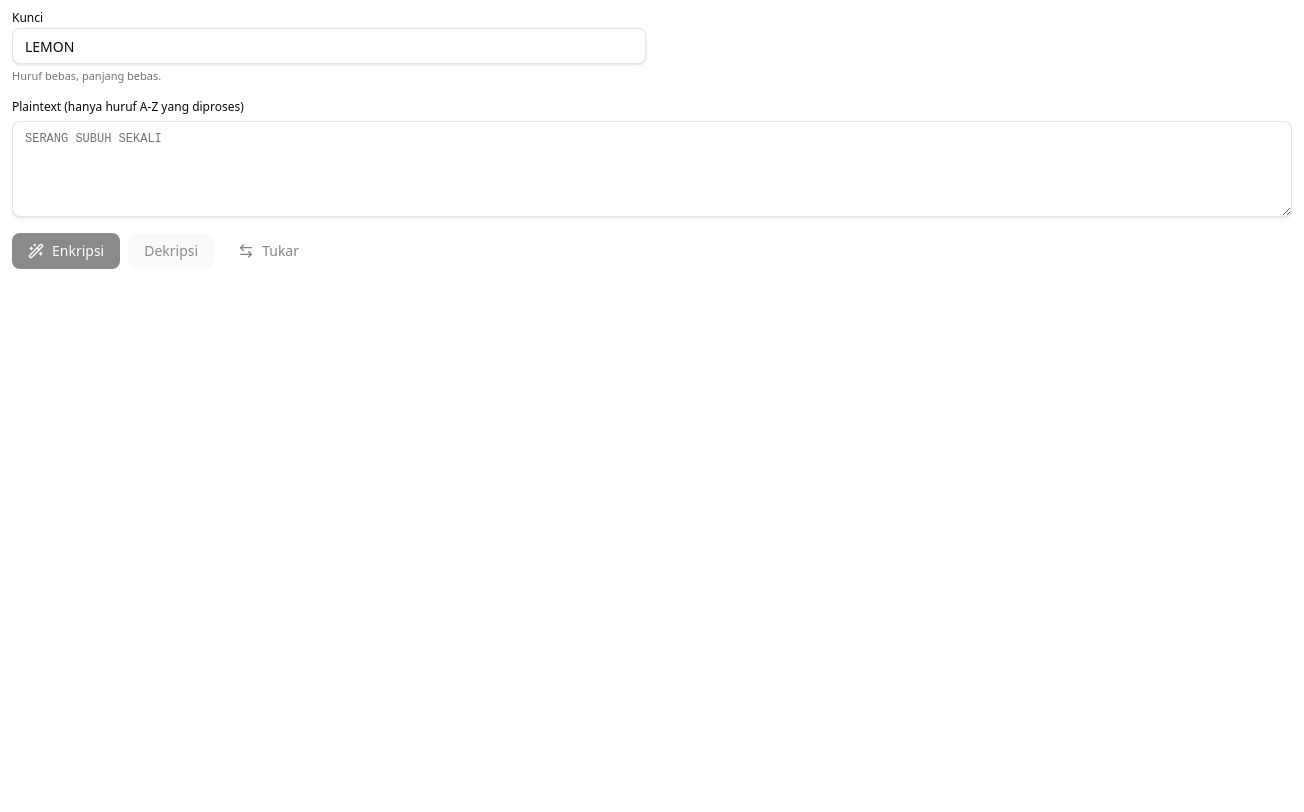
Test: TextPanel — enkripsi/dekripsi teks lewat GUI › menampilkan peringatan saat non-alfabet dibuang (Sp2)
Step 1. Type "SERANG SUBUH, SEKALI! 05:00" into the text box labelled "Plaintext (hanya huruf A-Z yang diproses)" → (652, 168), box 12,120 -> 1292,216
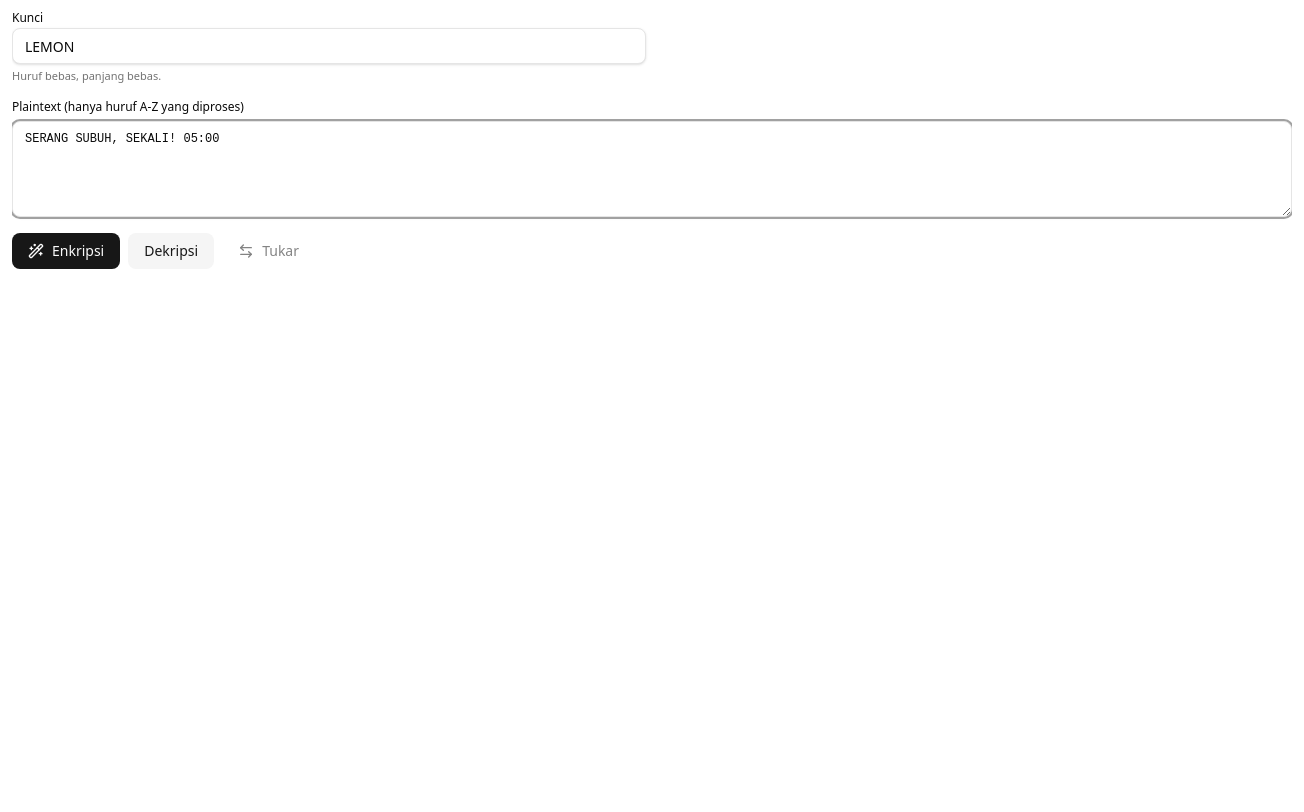
Step 2. Click the button "Enkripsi" → click(66, 250), box 12,232 -> 120,268
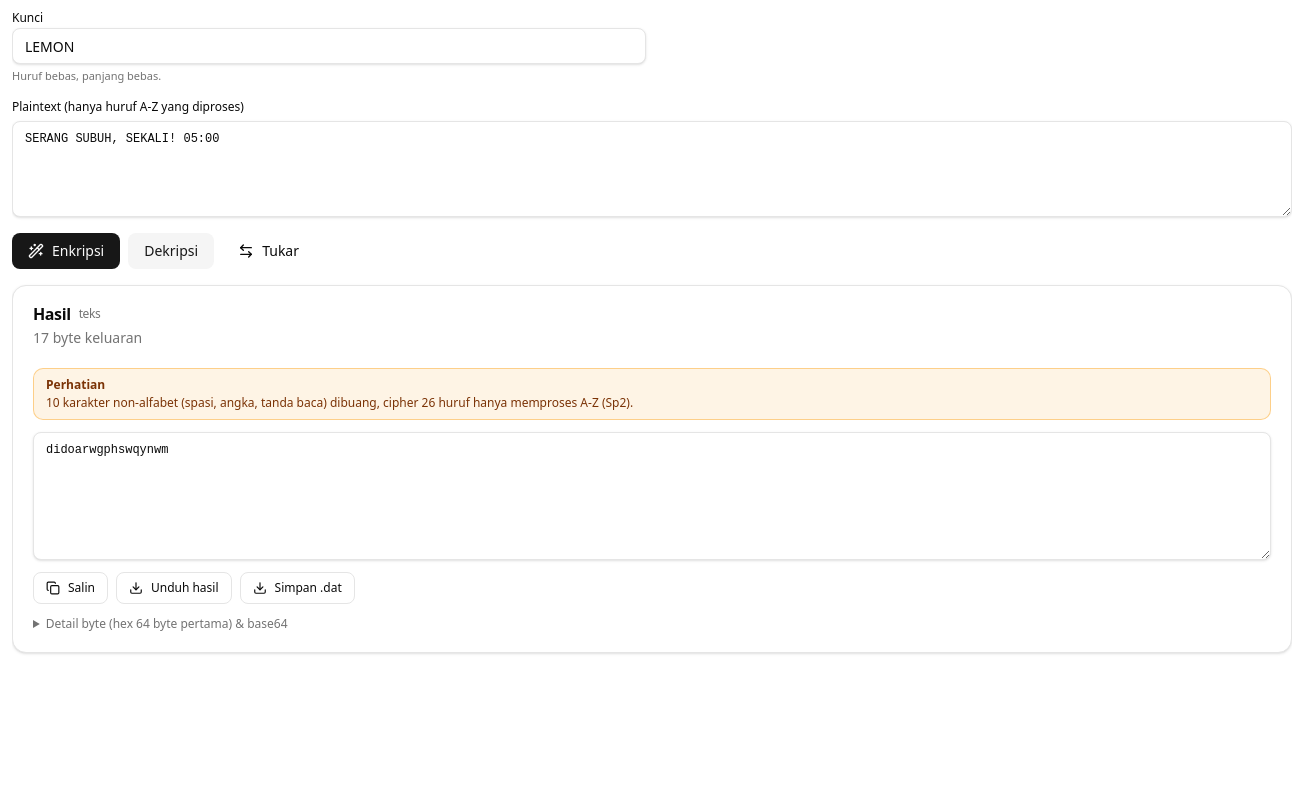
Result: the message shows "non-alfabet" at 46,394 -> 633,410
